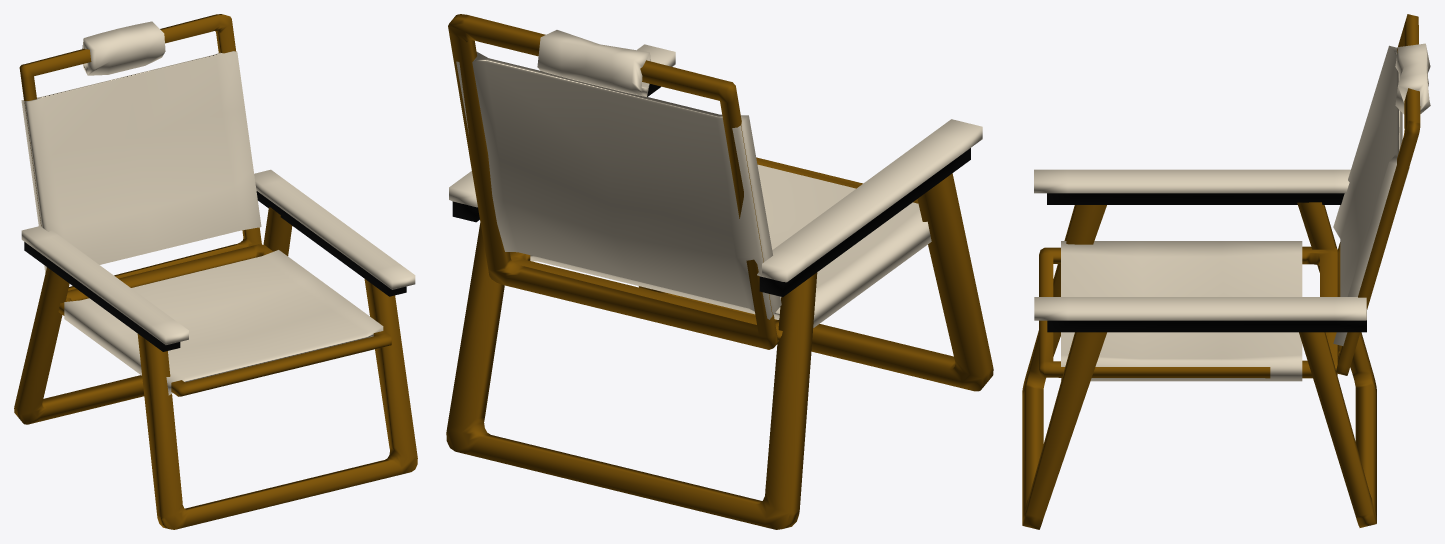
The model's file is chair1.fbx.
3 views of the same model, side by side, from view 1: azimuth 30°, elevation 25°; view 2: azimuth 150°, elevation 25°; view 3: azimuth 270°, elevation 25° (orthographic). The views are drawn at different scales.
Parts seen in each view (by area): view 1: chair1; view 2: chair1; view 3: chair1.
Boxes of the visible parts, x1=… form: chair1: x1=14, y1=14, x2=417, y2=529; chair1: x1=446, y1=14, x2=993, y2=529; chair1: x1=1022, y1=14, x2=1430, y2=529.
Bounding box in the file's own units: 0.00731 × 0.00958 × 0.00883.
Materials: 1 (1 with a texture image).
